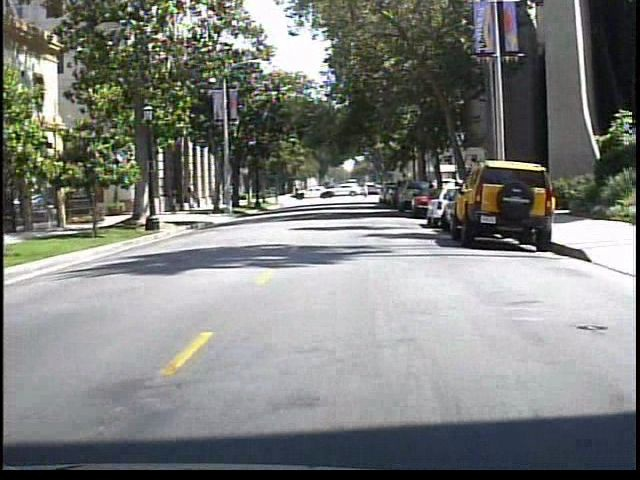person: (183, 185, 203, 217), (166, 183, 183, 216), (359, 181, 374, 203)
